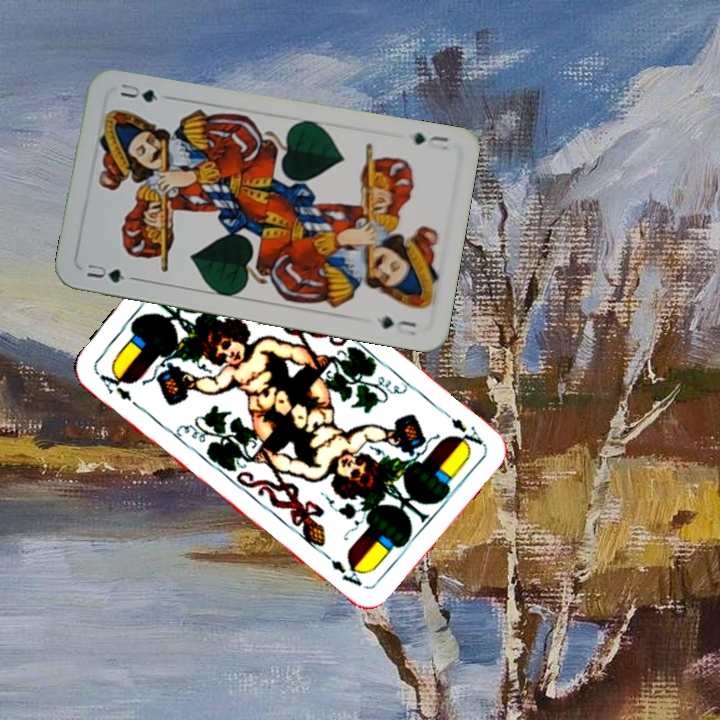EA: (435, 405, 485, 452), (92, 366, 142, 410)
GU: (83, 259, 127, 286), (410, 128, 452, 150)
